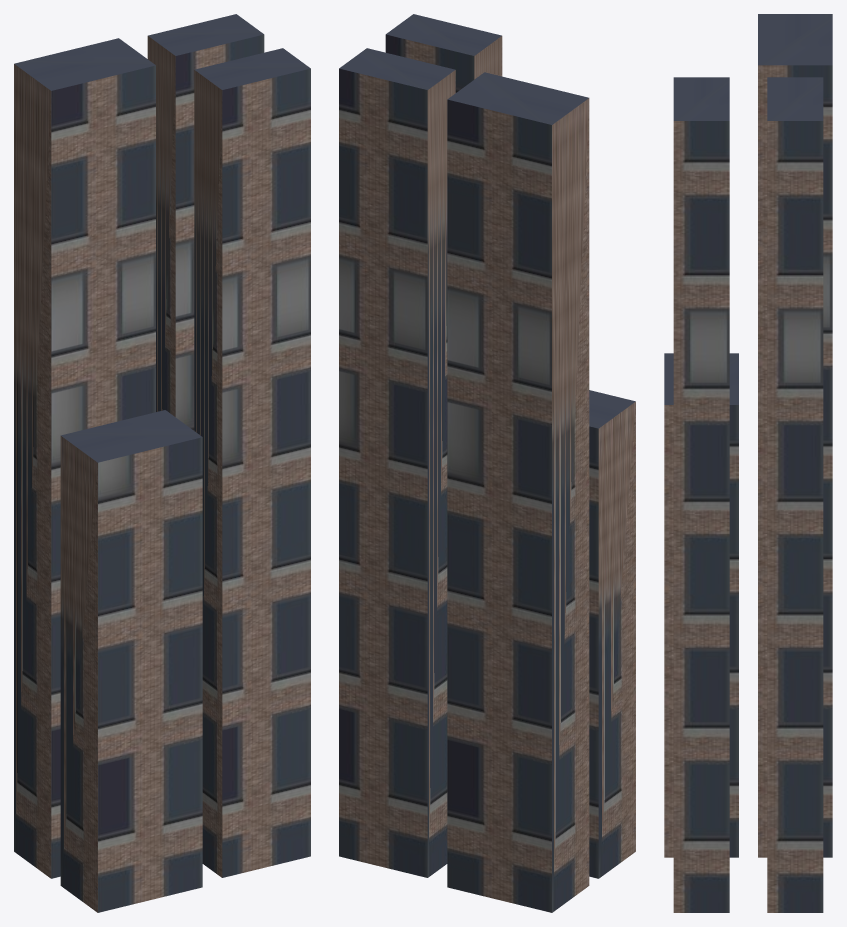
The model's file is block_31.obj.
The picture shows the model from 3 angles, left to right: view 1: azimuth 30°, elevation 25°; view 2: azimuth 150°, elevation 25°; view 3: azimuth 270°, elevation 25°; orthographic projection.
Parts seen in each view (by area): view 1: b3, b0, b1, b2; view 2: b0, b2, b1, b3; view 3: b2, b3, b0, b1.
Boxes of the visible parts, bbox=[...] form: b3: bbox=[194, 48, 310, 877]; b0: bbox=[14, 38, 155, 878]; b1: bbox=[60, 410, 202, 912]; b2: bbox=[147, 14, 264, 430]; b0: bbox=[447, 72, 589, 912]; b2: bbox=[339, 48, 455, 877]; b1: bbox=[589, 390, 635, 878]; b3: bbox=[385, 14, 502, 92]; b2: bbox=[767, 77, 823, 912]; b3: bbox=[673, 77, 729, 912]; b0: bbox=[758, 14, 832, 857]; b1: bbox=[664, 353, 738, 857].
Size of the model in its own units: 4.05 by 14 by 2.7.
